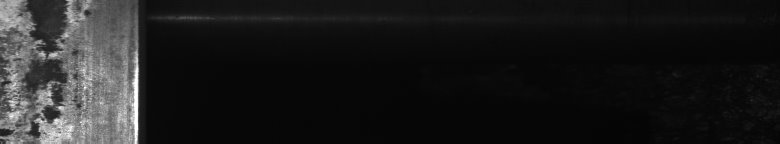kb: (4, 4, 103, 136)
